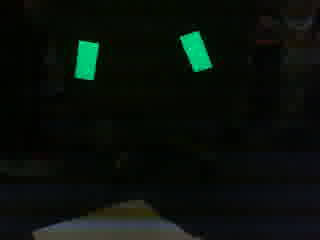target: (72, 25, 213, 82)
